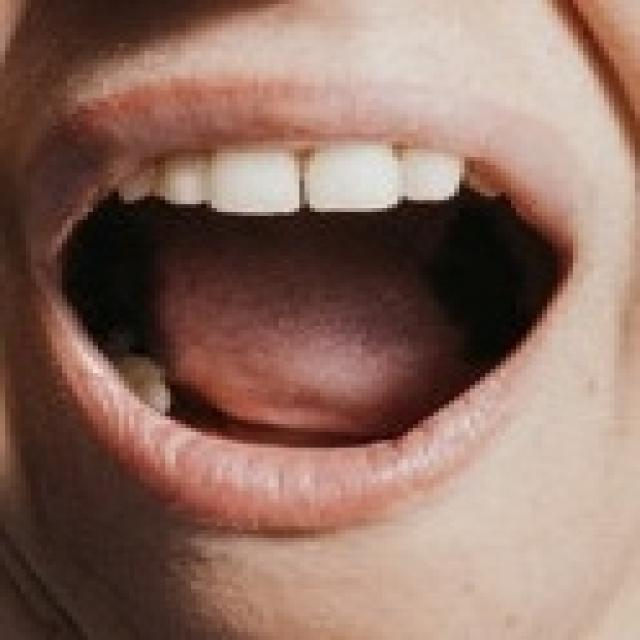open-mouth: (16, 74, 588, 530)
